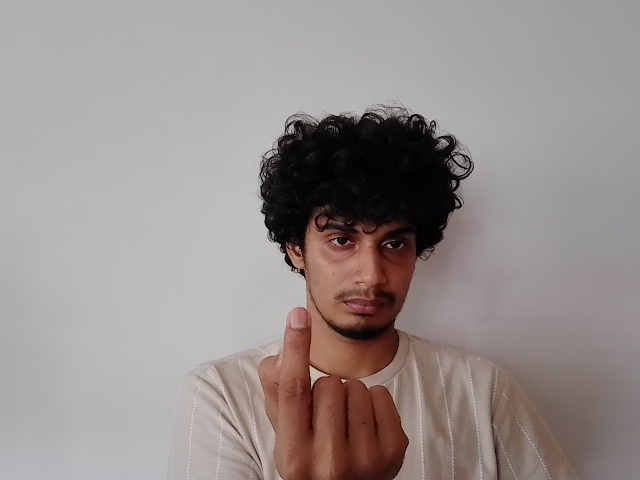just: (261, 307, 413, 476)
